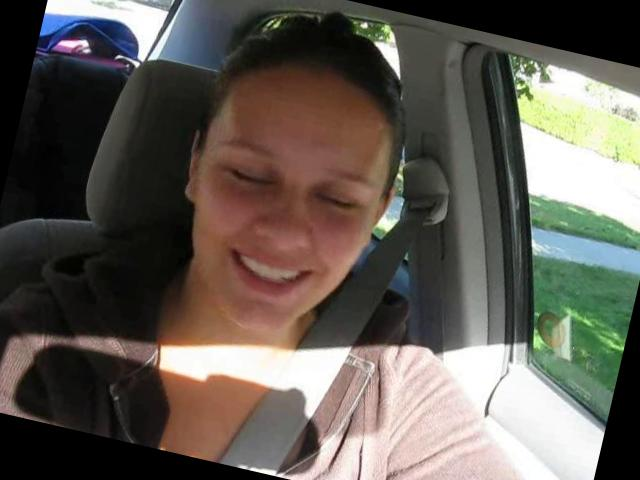eye_closed: (210, 152, 286, 205), (309, 182, 369, 224)
face: (167, 110, 394, 352)
